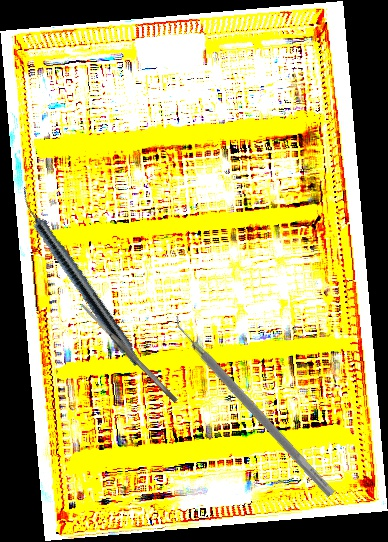Handpiece: (10, 185, 148, 370)
Spatula Surgical: (166, 311, 344, 498), (79, 301, 179, 404)
